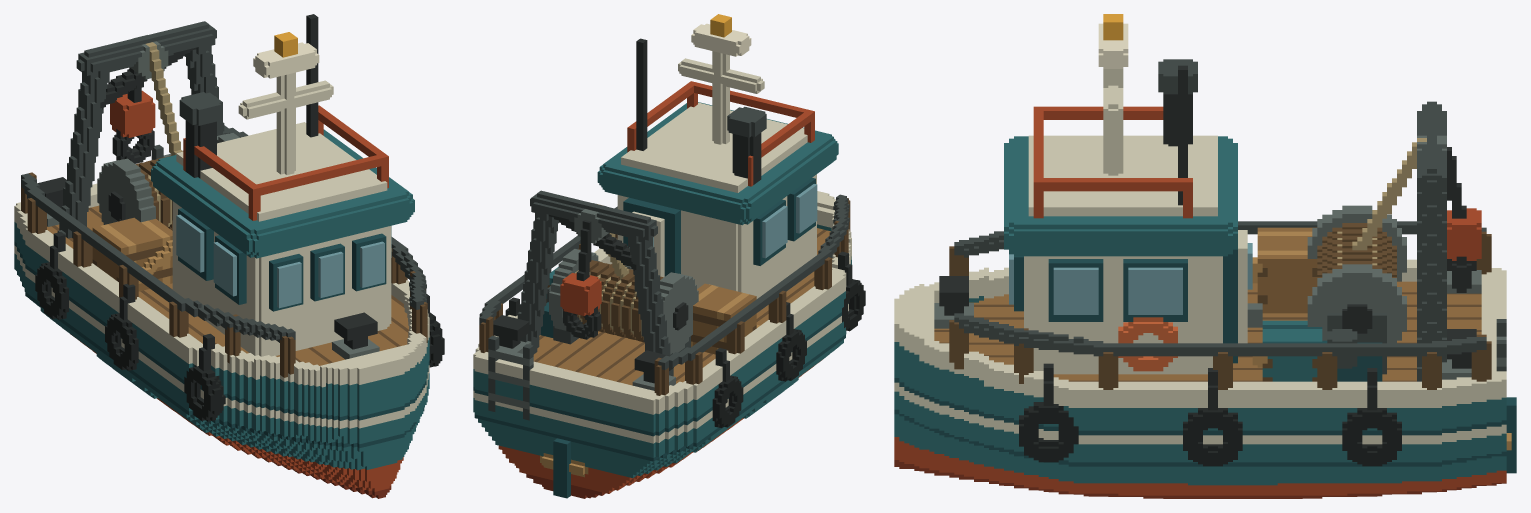
The model's file is fishing_boat.glb.
3 renders of one model, left to right at view 1: azimuth 30°, elevation 25°; view 2: azimuth 150°, elevation 25°; view 3: azimuth 270°, elevation 25°, orthographic. The views are drawn at different scales.
Visible parts, largest first — view 1: fishing_boat; view 2: fishing_boat; view 3: fishing_boat.
Boxes of the visible parts, box(x1,y1,x2,y2) form: fishing_boat: box(14, 14, 444, 498); fishing_boat: box(473, 14, 865, 498); fishing_boat: box(894, 14, 1516, 498).
Size of the model in its own units: 3.96 by 6.18 by 7.5.
